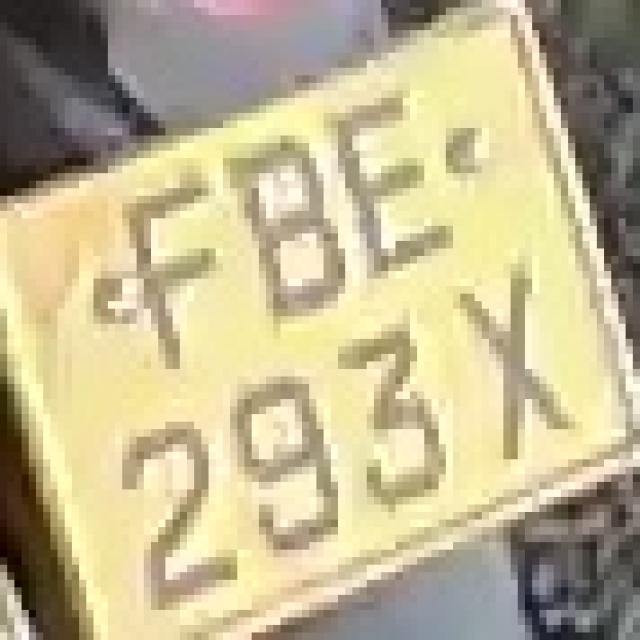2: (94, 399, 252, 633)
3: (309, 316, 446, 520)
9: (208, 339, 352, 557)
B: (216, 113, 352, 339)
E: (331, 75, 460, 286)
F: (101, 151, 237, 414)
X: (446, 241, 575, 482)
